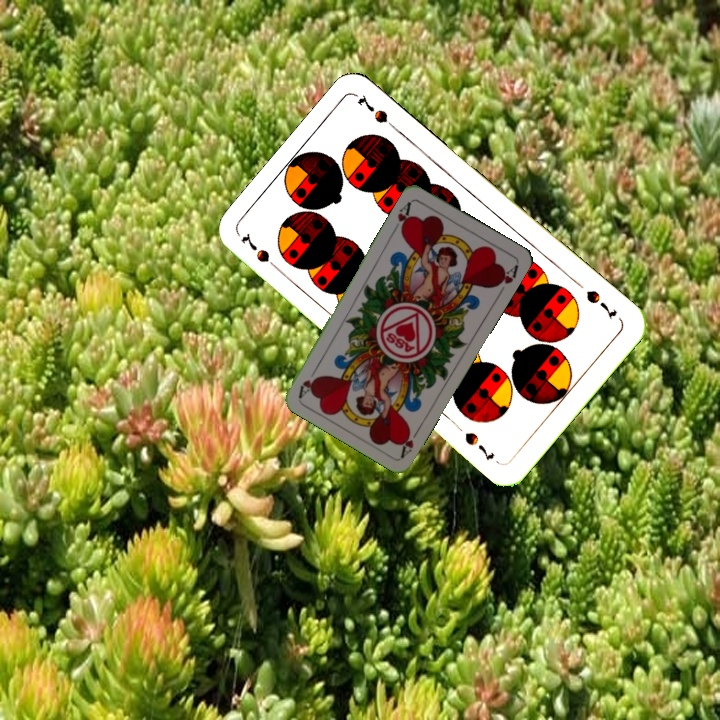HA: (389, 197, 414, 237), (396, 422, 423, 459)
S7: (237, 230, 284, 276), (582, 286, 620, 323)
